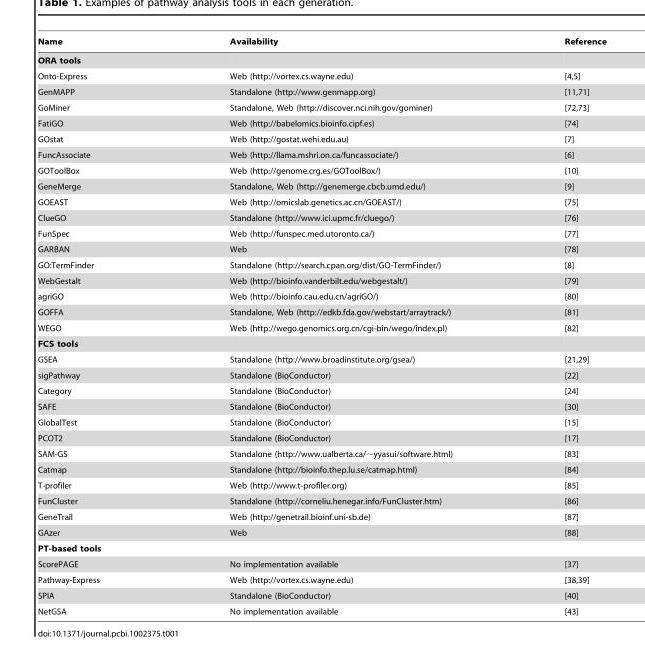table: (37, 36, 605, 615)
table column: (164, 36, 507, 615), (37, 36, 164, 615), (507, 36, 605, 615)
table column header: (37, 36, 605, 50)
table projected row header: (37, 50, 605, 68), (37, 335, 605, 351), (37, 540, 605, 556)
table row: (37, 50, 605, 68), (37, 444, 605, 461), (37, 83, 605, 99), (37, 99, 605, 115), (37, 115, 605, 131), (37, 146, 605, 162), (37, 162, 605, 178), (37, 178, 605, 194), (37, 209, 605, 225), (37, 225, 605, 241), (37, 256, 605, 272), (37, 272, 605, 288), (37, 288, 605, 304), (37, 304, 605, 320), (37, 335, 605, 351), (37, 351, 605, 367), (37, 382, 605, 398), (37, 398, 605, 414), (37, 414, 605, 430), (37, 461, 605, 477), (37, 477, 605, 493), (37, 508, 605, 524), (37, 524, 605, 540), (37, 540, 605, 556), (37, 571, 605, 587), (37, 587, 605, 603), (37, 68, 605, 83), (37, 131, 605, 146), (37, 194, 605, 209), (37, 241, 605, 256), (37, 320, 605, 335), (37, 367, 605, 382), (37, 493, 605, 508), (37, 556, 605, 571), (37, 36, 605, 50), (37, 430, 605, 444), (37, 603, 605, 615)
